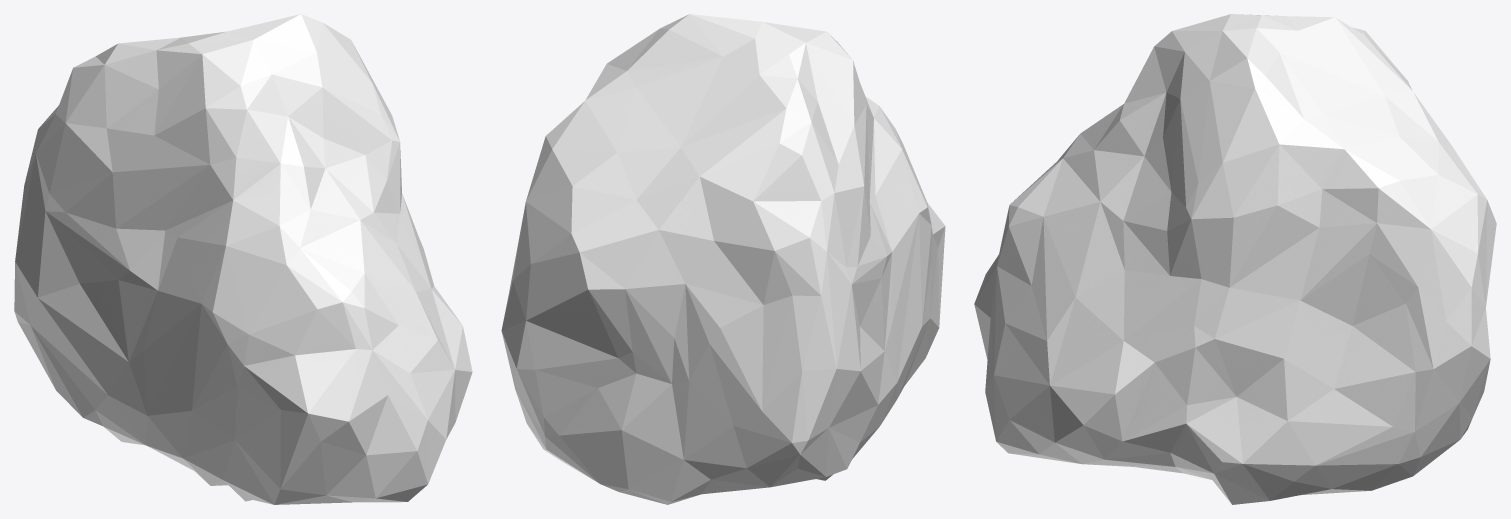
File: rock-1.glb
3 renders of one model, left to right at view 1: azimuth 30°, elevation 25°; view 2: azimuth 150°, elevation 25°; view 3: azimuth 270°, elevation 25°, orthographic.
Visible parts, largest first — view 1: skp6AD; view 2: skp6AD; view 3: skp6AD.
Part boxes in pixels (x1,y1,x2,y2): skp6AD: [14, 14, 472, 504]; skp6AD: [501, 14, 945, 504]; skp6AD: [974, 14, 1496, 504].
Bounding box in the file's own units: 0.8256 × 0.9812 × 1.12.
1 material, 1 textured.
